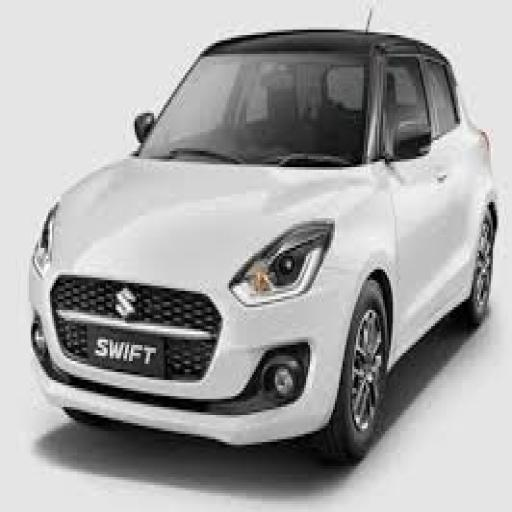car: (16, 11, 506, 496)
